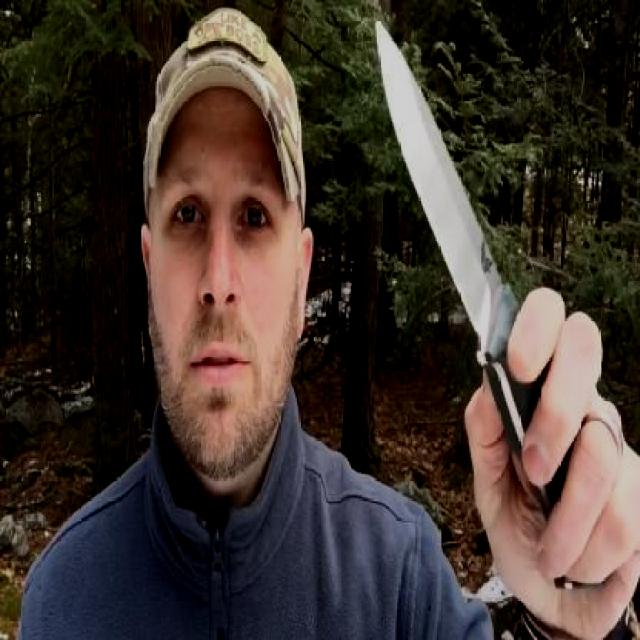knife: (369, 11, 588, 492)
